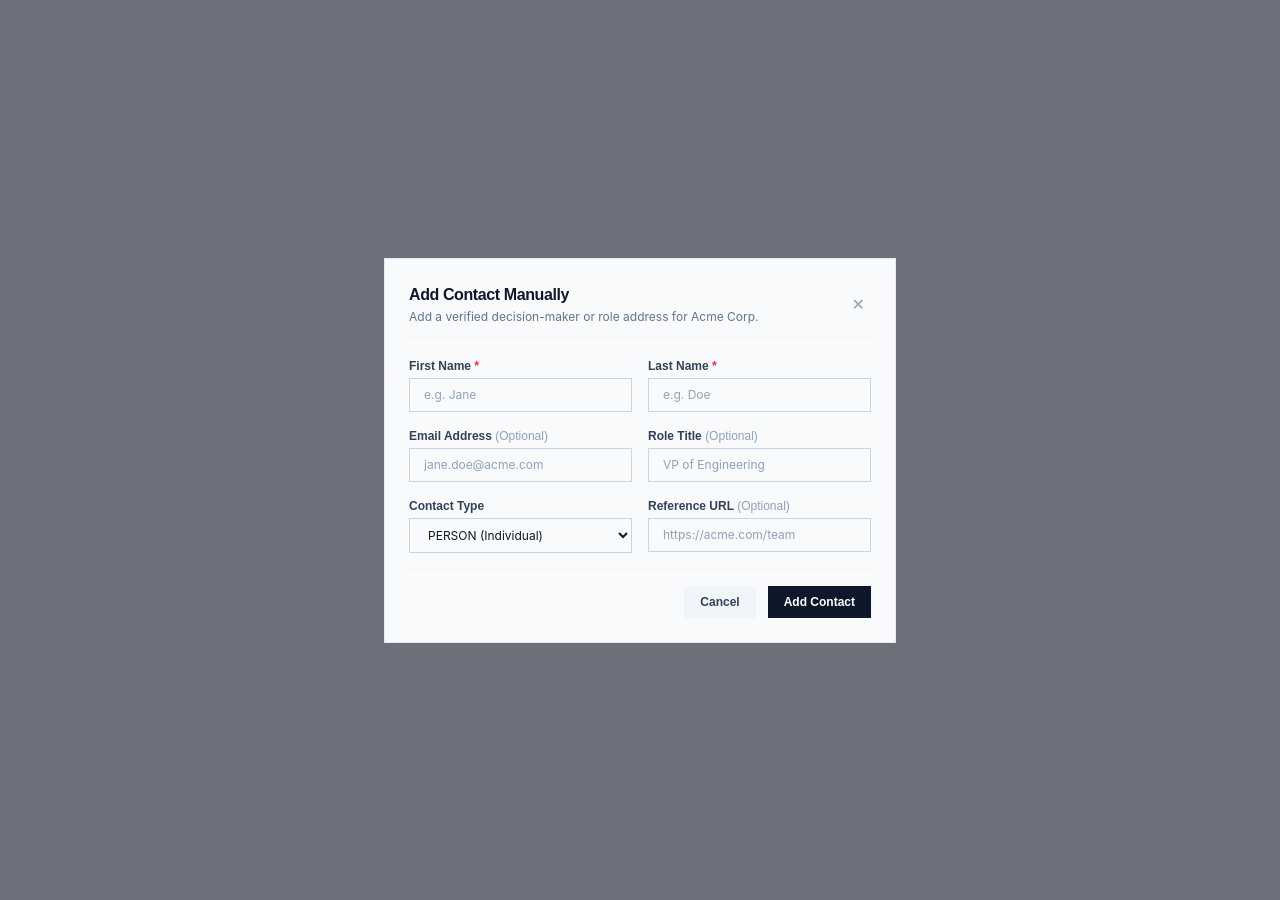
Test case: AddContactModal Component - Milestone 07 Manual Contact Creation › validates invalid email format
Type "Jane" into the field labelled "First Name *". click: x=520, y=394
box: [409,378,632,412]
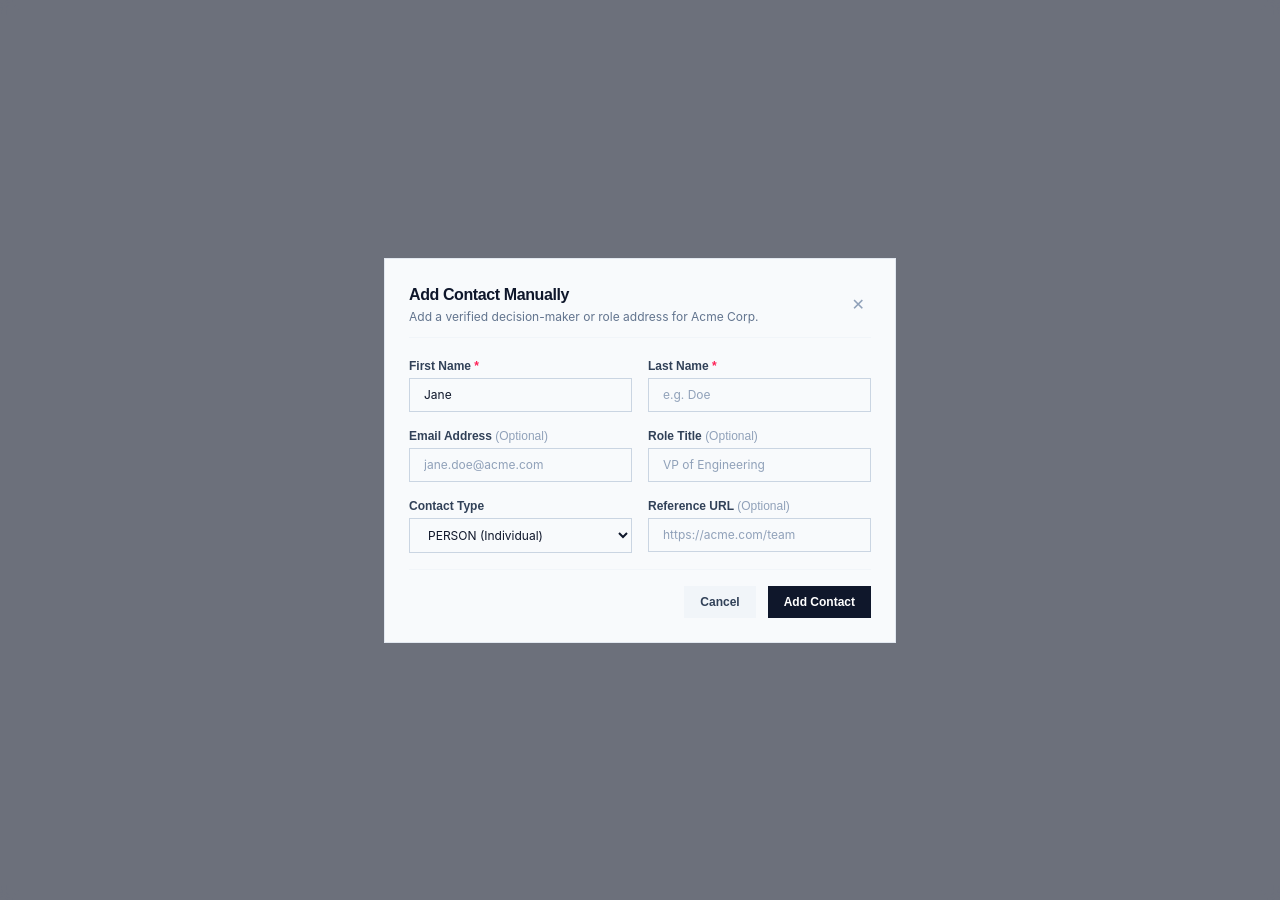
Type "Doe" into the field labelled "Last Name *". click: x=760, y=394
box: [648,378,871,412]
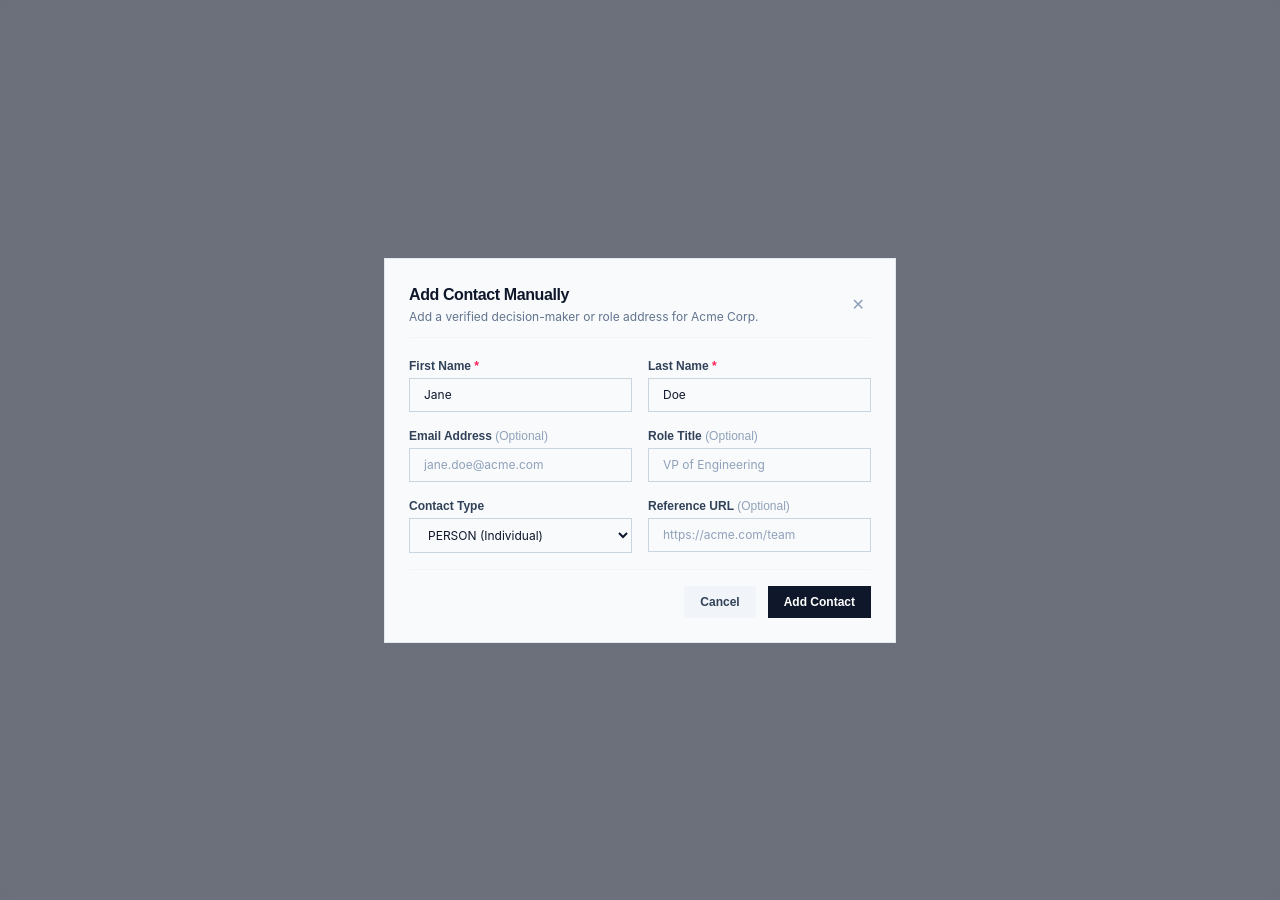
Type "invalid-email" into the field labelled "Email Address (Optional)". click: x=520, y=464
box: [409,448,632,482]
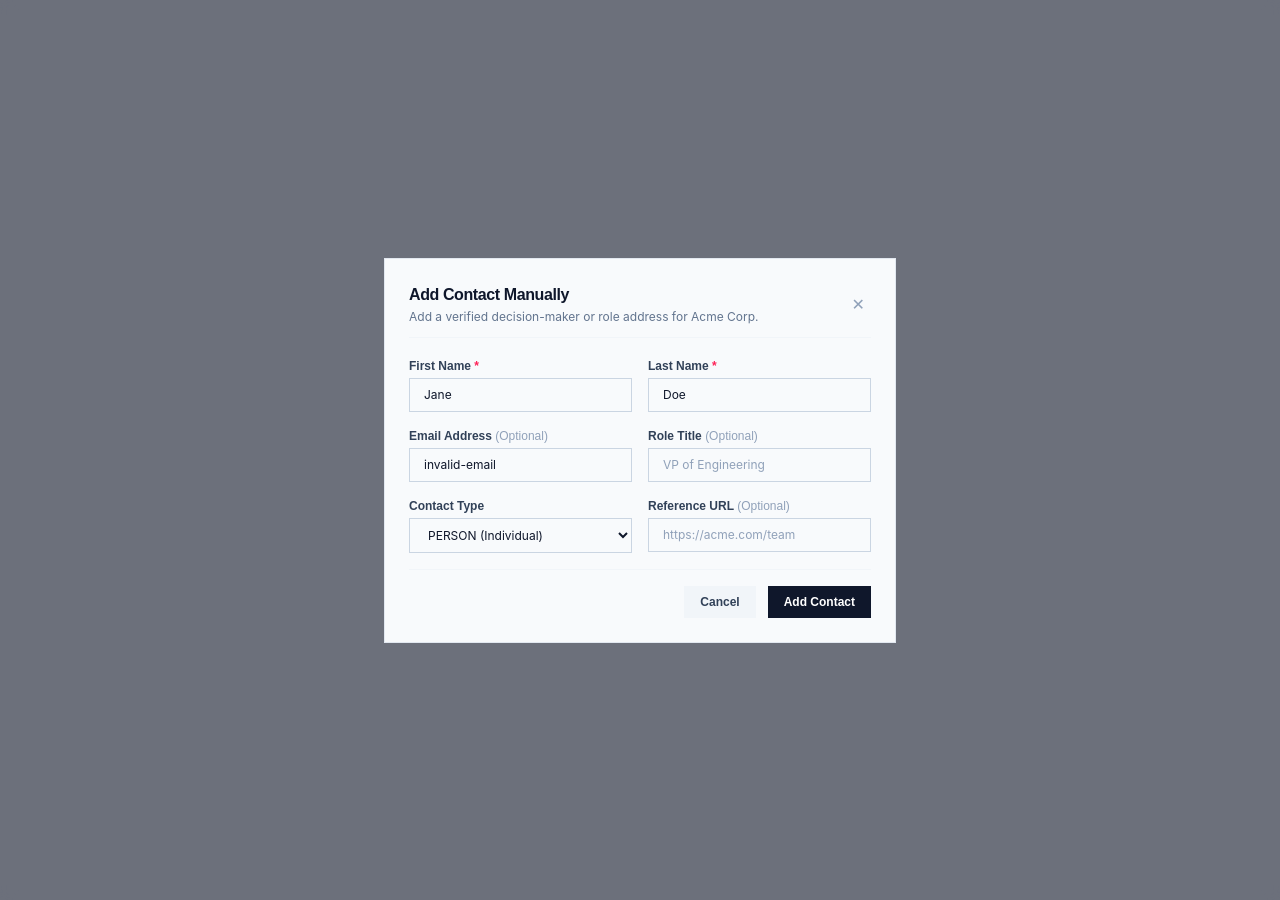
Click the button "Add Contact". click: x=819, y=602
box: [768,586,871,618]
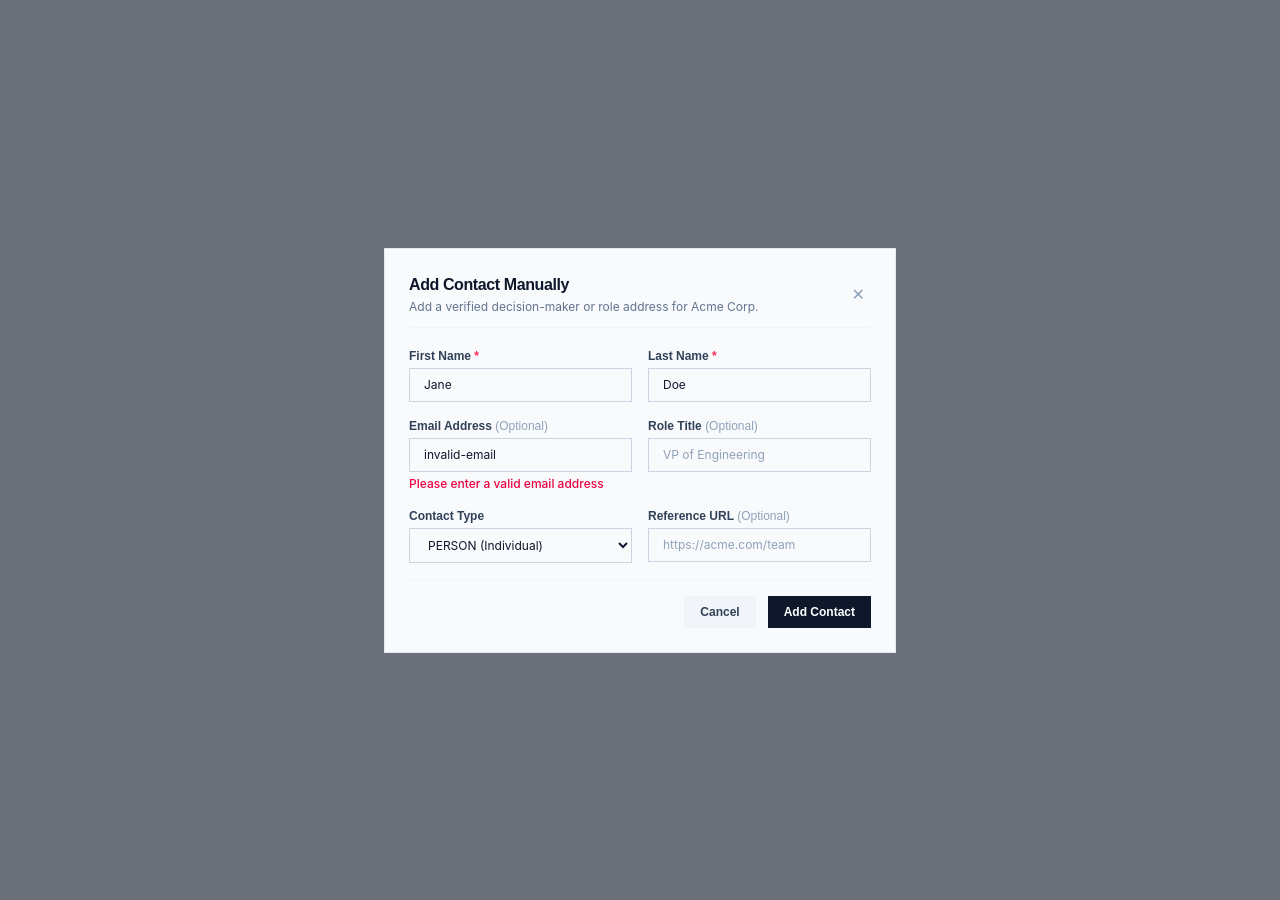
Check: the text "Please enter a valid email address" is shown, box [409,476,632,492]
